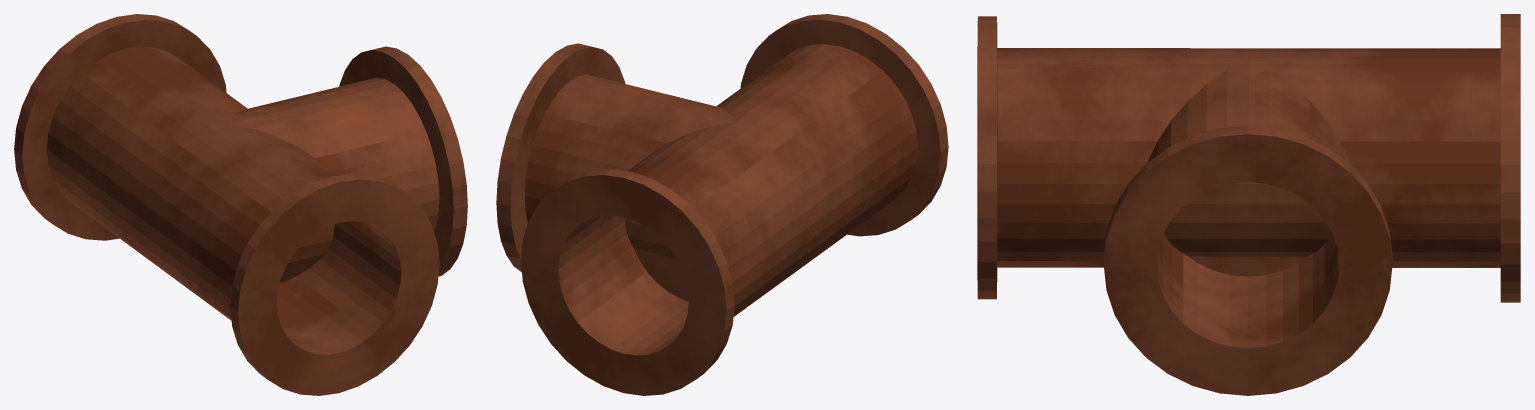
Rendered from Three way pipe.glb.
The picture shows the model from 3 angles, left to right: view 1: azimuth 30°, elevation 25°; view 2: azimuth 150°, elevation 25°; view 3: azimuth 270°, elevation 25°; orthographic projection. The views are drawn at different scales.
Visible parts, largest first — view 1: Three end pipe, Cylinder.043; view 2: Three end pipe, Cylinder.043; view 3: Three end pipe, Cylinder.043.
Boxes of the visible parts, bbox=[...] form: Three end pipe: bbox=[14, 14, 439, 395]; Cylinder.043: bbox=[228, 46, 467, 283]; Three end pipe: bbox=[521, 14, 948, 395]; Cylinder.043: bbox=[496, 43, 735, 272]; Three end pipe: bbox=[977, 14, 1520, 302]; Cylinder.043: bbox=[1103, 58, 1392, 395].
Bounding box in the file's own units: 0.7285 × 0.5298 × 0.9968.
1 material, 1 textured.
